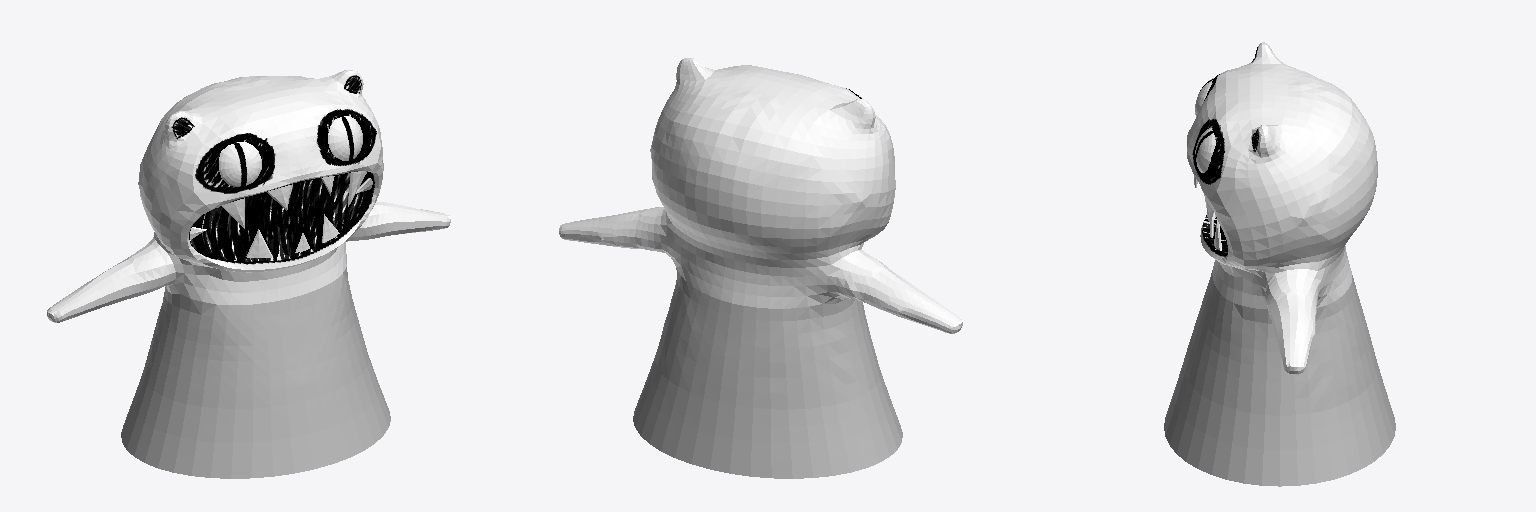
3 views of the same model, side by side, from view 1: azimuth 30°, elevation 25°; view 2: azimuth 150°, elevation 25°; view 3: azimuth 270°, elevation 25° (orthographic).
Visible parts, largest first — view 1: SK_GhostBear.mo_SK_GhostBear.md; view 2: SK_GhostBear.mo_SK_GhostBear.md; view 3: SK_GhostBear.mo_SK_GhostBear.md.
Part boxes in pixels (x1,y1,x2,y2): SK_GhostBear.mo_SK_GhostBear.md: (47,70,450,478); SK_GhostBear.mo_SK_GhostBear.md: (559,58,962,478); SK_GhostBear.mo_SK_GhostBear.md: (1164,42,1395,486).
Size of the model in its own units: 126 by 102 by 63.04.
Materials: 2 (1 with a texture image).